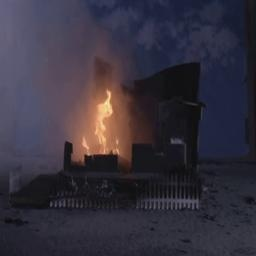fire: (75, 88, 131, 168)
smoke: (0, 0, 115, 96)
